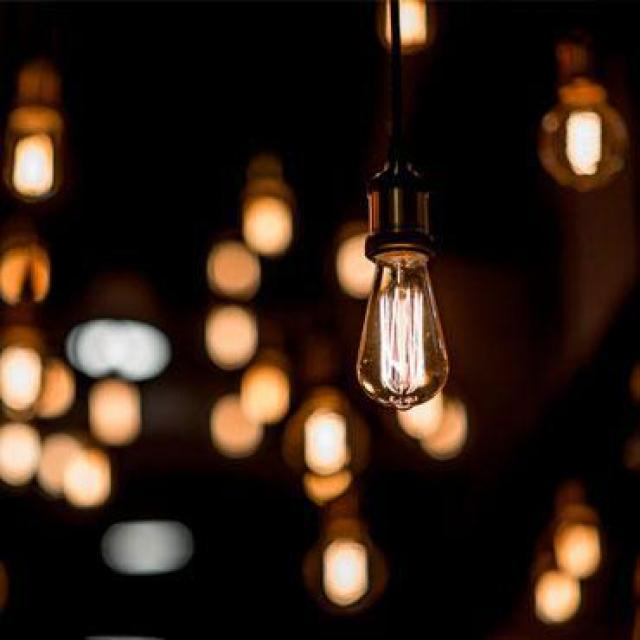other: (210, 202, 354, 488), (8, 308, 158, 515), (374, 290, 453, 409), (318, 532, 382, 611), (572, 95, 612, 178)
